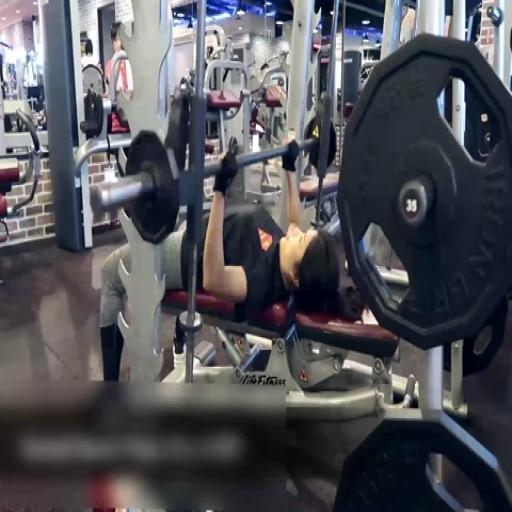exercise: (96, 134, 343, 382)
